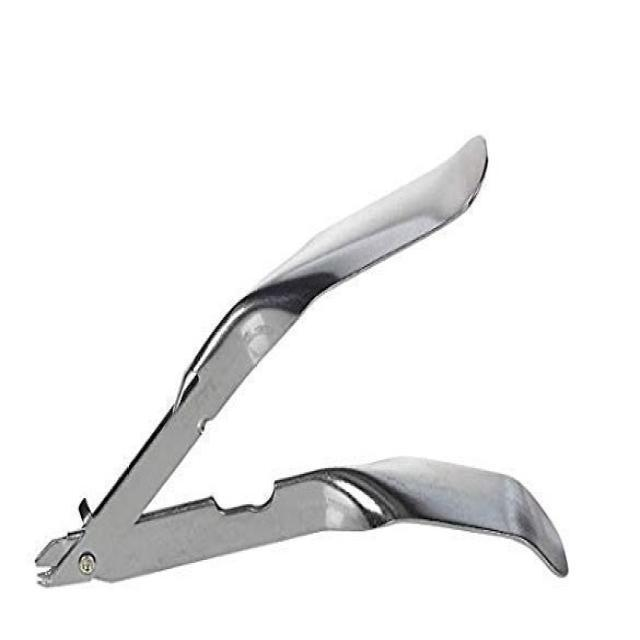Stapler Remover: (36, 130, 576, 594)
